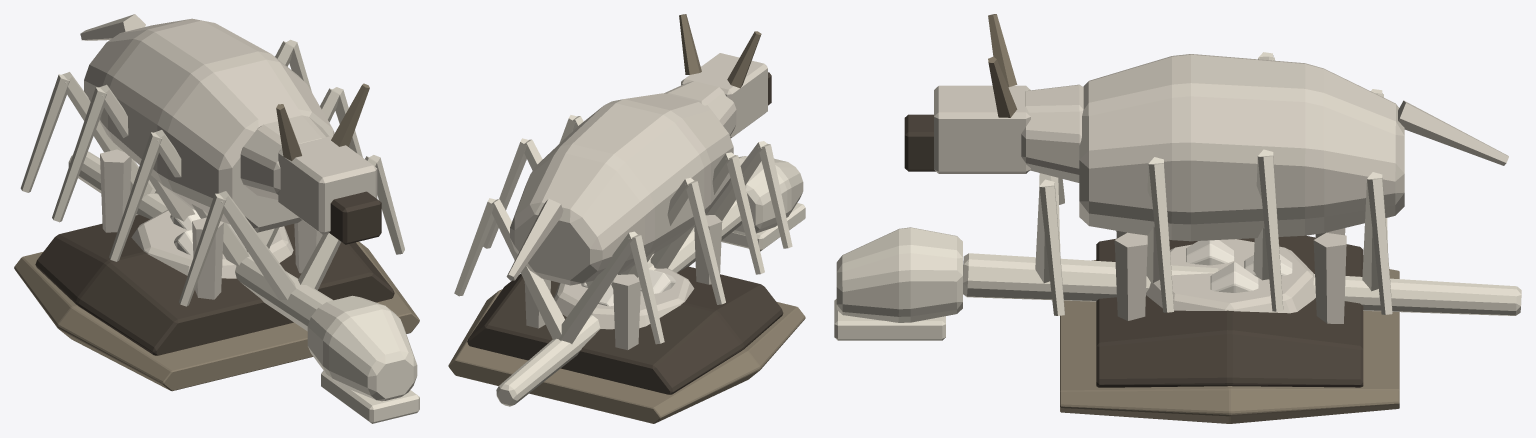
Rendered from creatures.glb.
The picture shows the model from 3 angles, left to right: view 1: azimuth 30°, elevation 25°; view 2: azimuth 150°, elevation 25°; view 3: azimuth 270°, elevation 25°; orthographic projection. The views are drawn at different scales.
Parts seen in each view (by area): view 1: body, mound, bed, skull, head, spine, neck, bowl, muzzle, rib-0-0, leg-2, jaw (+17 smaller); view 2: body, mound, bed, spine, head, skull, bowl, rib-3-0, leg-2, rib-3-1, neck, rib-foot-2-0 (+16 smaller); view 3: body, mound, bed, spine, skull, head, bowl, neck, leg-3, leg-1, jaw, tail (+13 smaller).
Part boxes in pixels (<box>): body: <box>84,18,334,232</box>; mound: <box>35,214,394,355</box>; bed: <box>14,241,419,391</box>; skull: <box>307,295,417,401</box>; head: <box>278,135,377,234</box>; spine: <box>68,151,332,331</box>; neck: <box>240,115,329,199</box>; bowl: <box>131,209,293,278</box>; muzzle: <box>329,191,381,244</box>; rib-0-0: <box>218,191,296,299</box>; leg-2: <box>100,149,131,232</box>; jaw: <box>321,370,419,423</box>; body: <box>510,93,733,285</box>; mound: <box>467,266,783,394</box>; bed: <box>448,289,805,423</box>; spine: <box>496,200,742,406</box>; head: <box>681,53,767,138</box>; skull: <box>732,156,803,235</box>; bowl: <box>553,268,694,329</box>; rib-3-0: <box>559,231,637,343</box>; leg-2: <box>613,274,640,350</box>; rib-3-1: <box>491,199,564,339</box>; neck: <box>664,81,736,135</box>; rib-foot-2-0: <box>685,180,725,304</box>; body: <box>1079,54,1404,241</box>; mound: <box>1096,235,1363,387</box>; bed: <box>1060,260,1399,423</box>; spine: <box>963,253,1521,315</box>; skull: <box>836,227,962,322</box>; head: <box>934,85,1030,173</box>; bowl: <box>1146,239,1315,313</box>; neck: <box>1021,84,1083,182</box>; leg-3: <box>1313,232,1346,323</box>; leg-1: <box>1114,232,1147,320</box>; jaw: <box>834,299,945,340</box>; tail: <box>1398,100,1508,165</box>.
Bounding box in the file's own units: 1.6 × 1.5 × 2.83.
